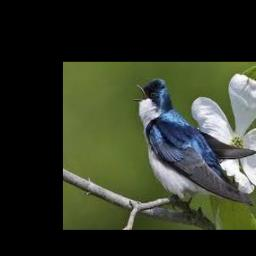Swallow: (133, 78, 256, 209)
